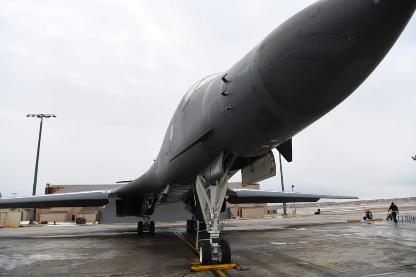AV8B: (0, 0, 416, 265)
